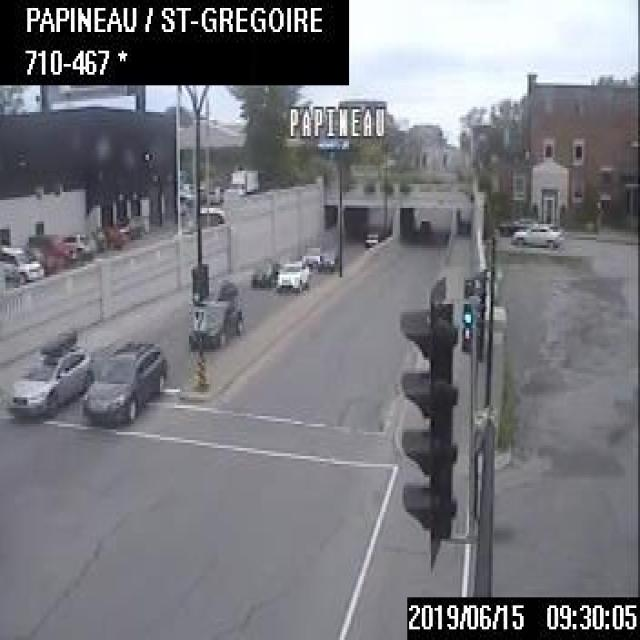vehicle: (3, 325, 93, 422), (80, 334, 165, 422), (189, 280, 244, 347), (26, 228, 74, 273), (0, 241, 47, 283), (273, 256, 312, 290), (512, 221, 562, 246), (228, 165, 260, 194), (249, 254, 275, 288), (316, 243, 337, 271), (362, 229, 378, 243)
